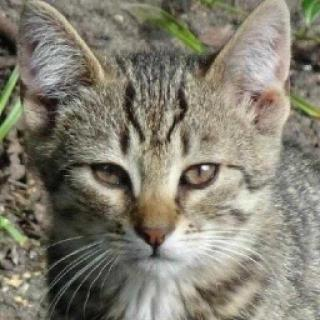cat: (21, 1, 290, 279)
nose: (132, 198, 178, 247)
